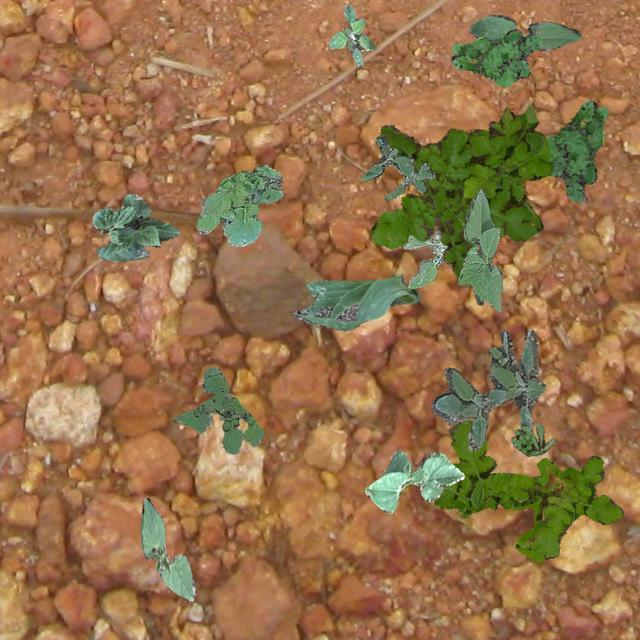crop: (292, 274, 418, 329), (364, 448, 464, 512), (92, 192, 178, 260), (140, 496, 194, 600), (457, 188, 502, 310), (468, 14, 582, 51)
weed: (370, 104, 552, 276), (434, 418, 622, 562), (430, 328, 544, 449), (172, 366, 262, 454), (196, 164, 282, 245), (544, 100, 608, 202), (450, 28, 540, 86), (360, 134, 434, 198), (402, 228, 476, 288), (328, 4, 373, 66), (510, 422, 554, 456)
